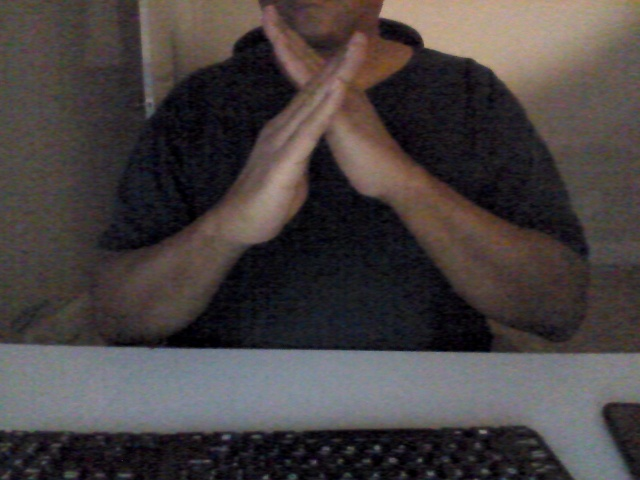quiet: (233, 2, 395, 248)
